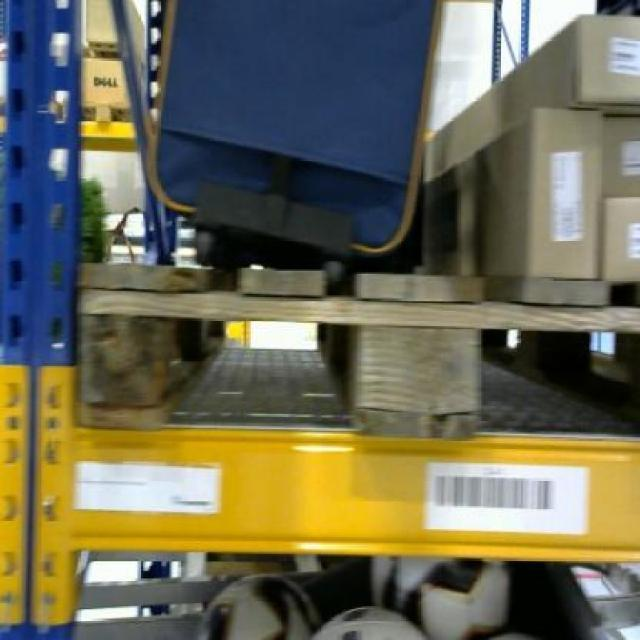box: (441, 111, 601, 284)
